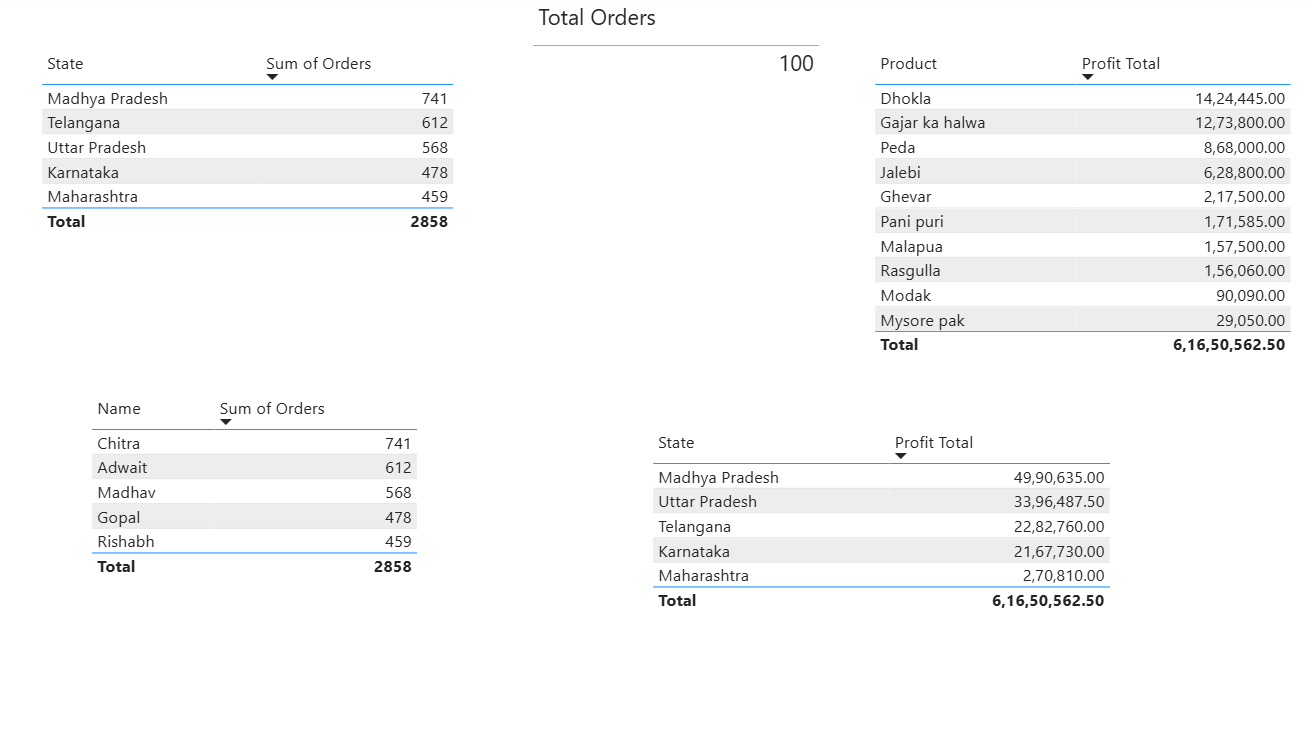

What the dashboard file says about the page in this screenshot:
{"tool":"powerbi","page":{"name":"Page 1","canvas":[1280,720],"ordinal":0},"visuals":[{"type":"tableEx","fields":{"Values":["Orders.Total Orders"]},"box":[516.5,0,289.8,225.7],"z":0},{"type":"tableEx","fields":{"Values":["Customers.Name","Orders.Sum of Orders"]},"box":[123.5,369.6,327.8,262.6],"z":1000},{"type":"tableEx","fields":{"Values":["Orders.Profit Total","Customers.State"]},"box":[633.2,417.3,456.2,248],"z":4000},{"type":"tableEx","fields":{"Values":["Orders.Product","Orders.Profit Total"]},"box":[849.1,48.6,415.3,335.6],"z":4001},{"type":"tableEx","fields":{"Values":["Customers.State","Orders.Sum of Orders"]},"box":[38.9,48.6,412.4,236.4],"z":4002}]}

Visuals, with their boxes in screenshot pixels (x1, y1, x2, y2), scaled from the page's 1280x720 canvas onto the 1307x734 screenshot:
tableEx - Orders.Total Orders: bbox(527, 0, 823, 230)
tableEx - Customers.Name x Orders.Sum of Orders: bbox(126, 377, 461, 644)
tableEx - Orders.Profit Total x Customers.State: bbox(647, 425, 1112, 678)
tableEx - Orders.Product x Orders.Profit Total: bbox(867, 50, 1291, 392)
tableEx - Customers.State x Orders.Sum of Orders: bbox(40, 50, 461, 291)
